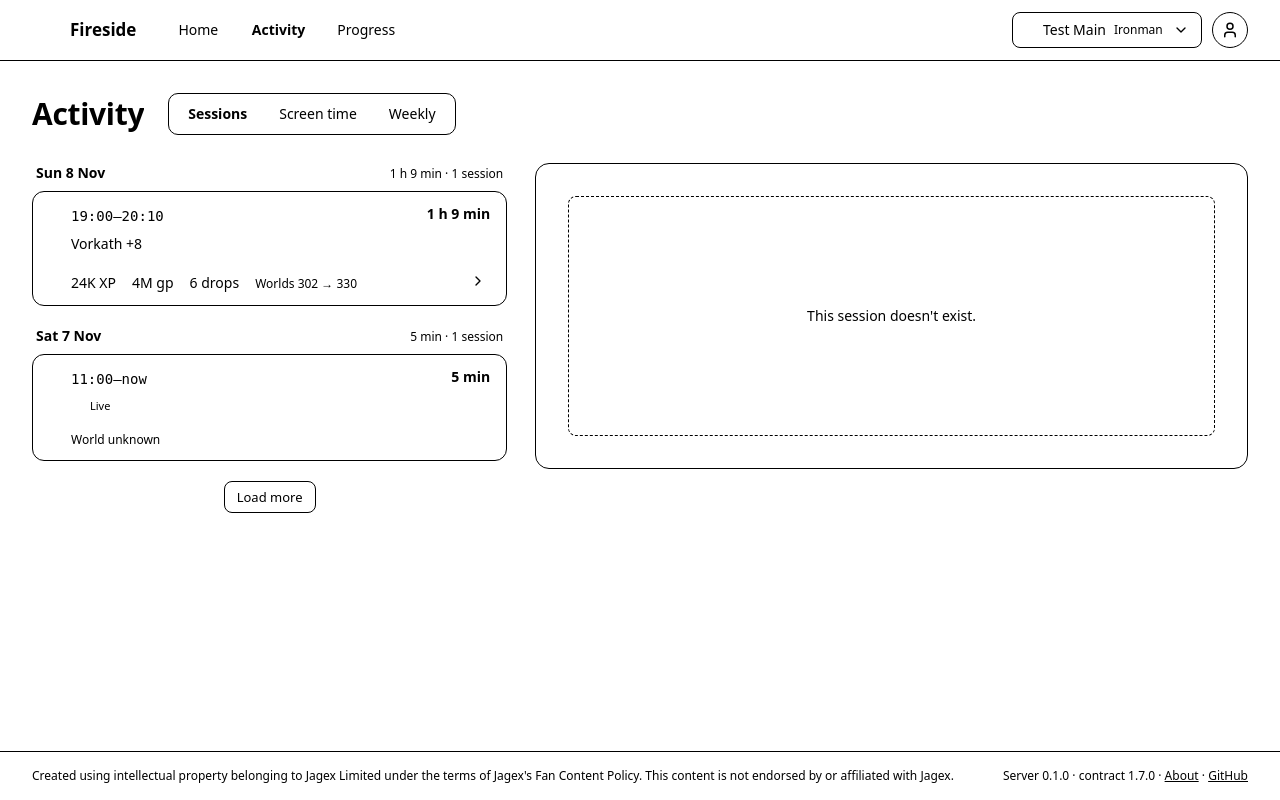
Test case: Sessions page › loads the next page with the cursor
Click the button "Load more" at (270, 497), box [224,481,316,513]
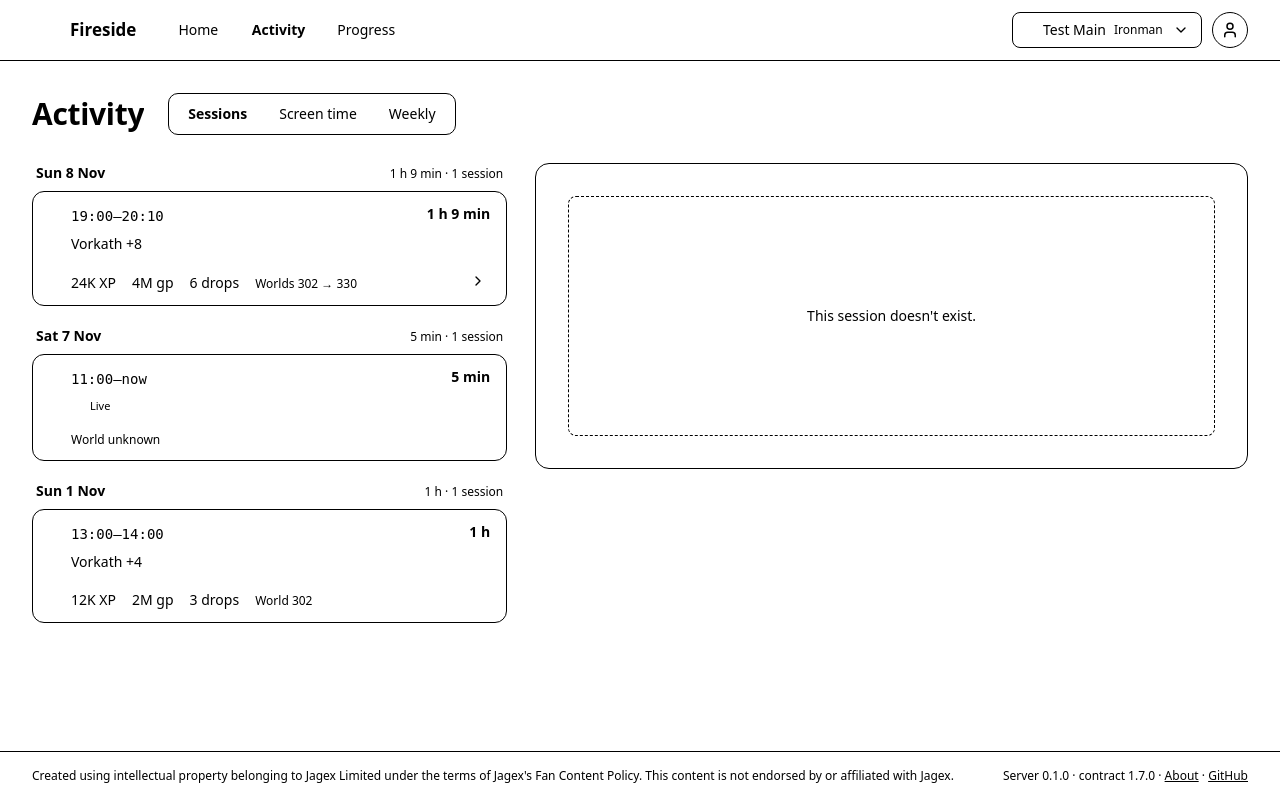
Expected: the element "Sun 1 Nov" is shown, [32,481,507,623]
Expected: the button "Load more" is gone
